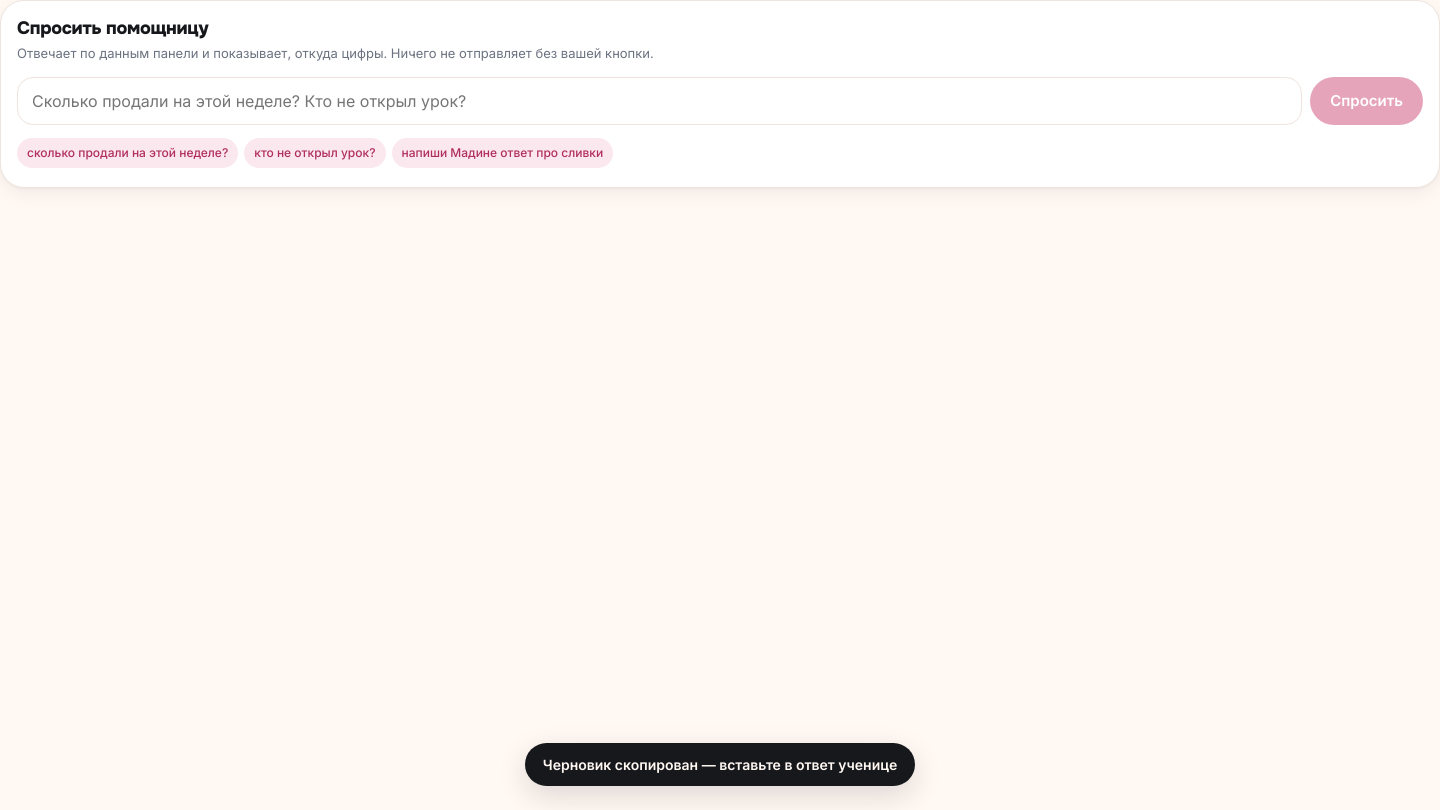
Scenario: AssistantBox › ошибка сервера — тост, поле остаётся с вопросом
What coordinates should you click on to do the following:
click the button "кто не открыл урок?"
I would click on:
 (315, 153)
Its box is [244, 138, 386, 168].
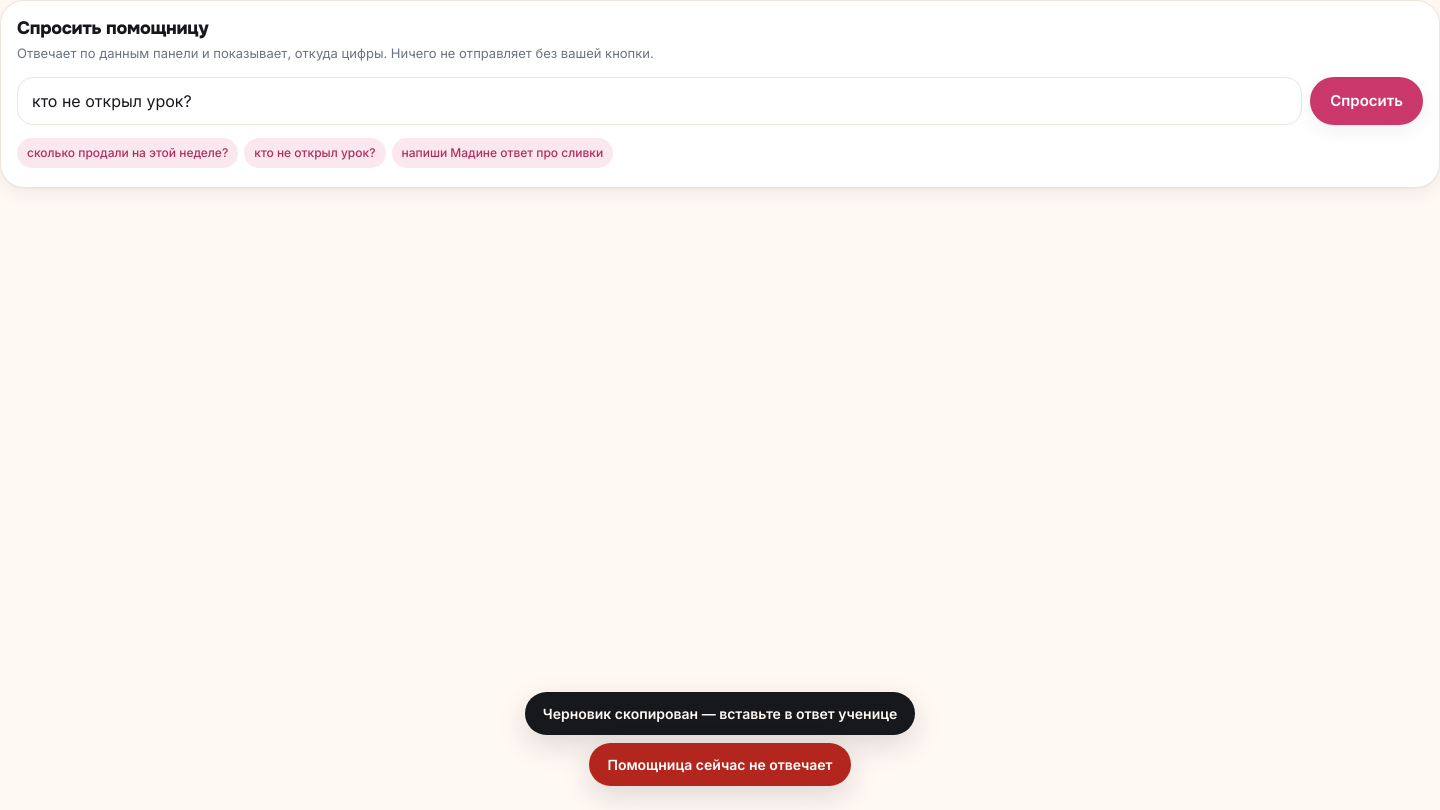
Expected: the text "Помощница сейчас не отвечает" is shown, [607, 756, 832, 773]
Expected: the field named "Вопрос помощнице" holds "кто не открыл урок?", [17, 77, 1302, 125]
